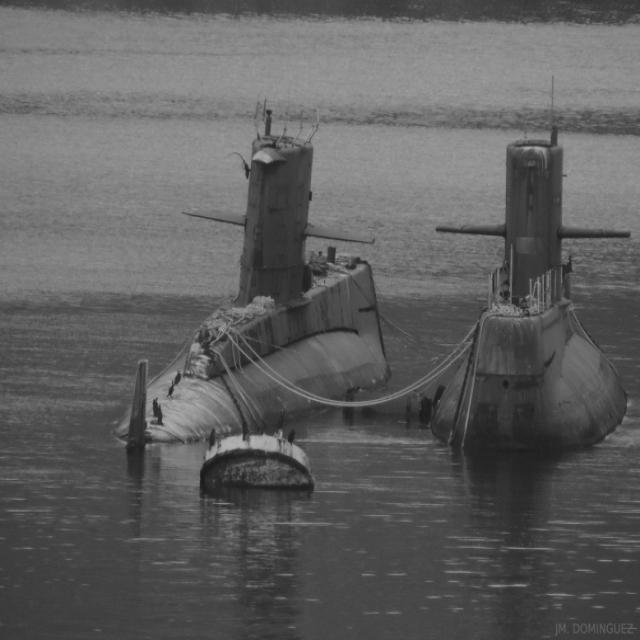submarine: (114, 94, 404, 444), (425, 93, 627, 451)
